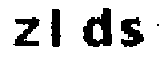d: (78, 6, 115, 54)
l: (46, 5, 70, 49)
s: (116, 16, 146, 49)
z: (11, 16, 42, 52)
